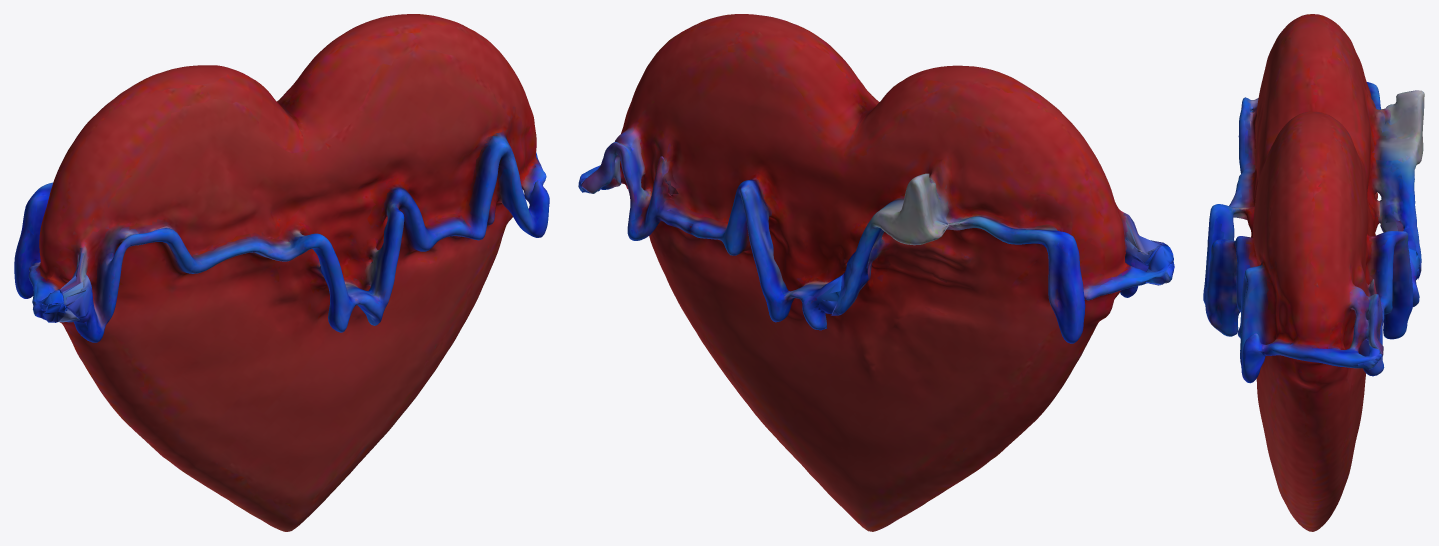
Rendered from heart-egc.glb.
3 renders of one model, left to right at view 1: azimuth 30°, elevation 25°; view 2: azimuth 150°, elevation 25°; view 3: azimuth 270°, elevation 25°, orthographic. The views are drawn at different scales.
Visible parts, largest first — view 1: HeartEGCModel; view 2: HeartEGCModel; view 3: HeartEGCModel.
Boxes of the visible parts, x1=… form: HeartEGCModel: x1=14, y1=14, x2=549, y2=531; HeartEGCModel: x1=578, y1=14, x2=1174, y2=531; HeartEGCModel: x1=1203, y1=14, x2=1424, y2=531.
Bounding box in the file's own units: 0.5229 × 0.4484 × 0.1975.
1 material, 1 textured.
